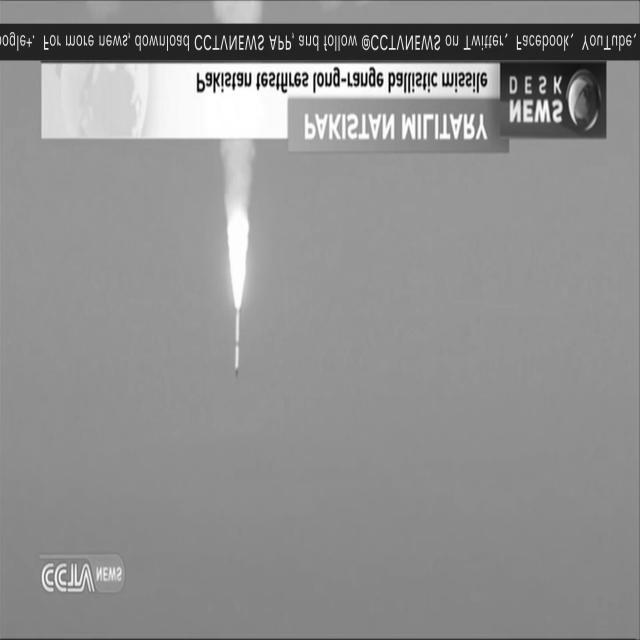missile: (230, 296, 243, 385)
